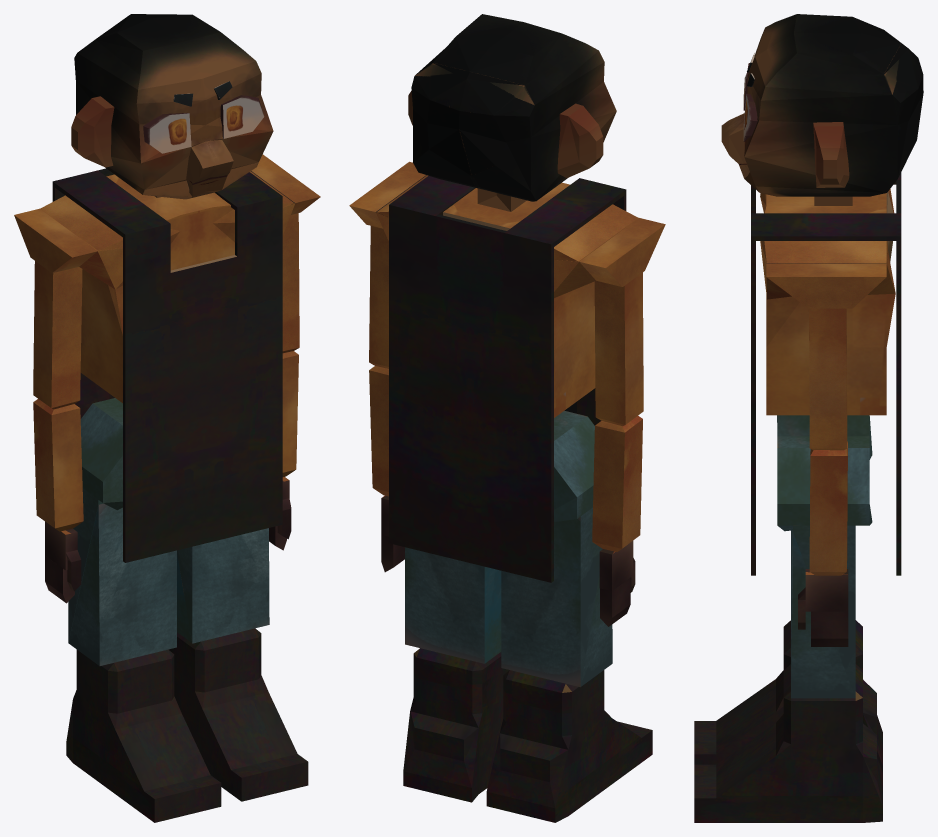
Rendered from modelBlacksmith.fbx.
3 views of the same model, side by side, from view 1: azimuth 30°, elevation 25°; view 2: azimuth 150°, elevation 25°; view 3: azimuth 270°, elevation 25° (orthographic). The views are drawn at different scales.
Parts seen in each view (by area): view 1: shoes.001; view 2: shoes.001; view 3: shoes.001.
Boxes of the visible parts, x1,y1,x2,y2 form: shoes.001: (14, 14, 320, 822); shoes.001: (349, 14, 665, 822); shoes.001: (694, 14, 923, 822).
Size of the model in its own units: 0.6277 by 1.75 by 0.4842.
Materials: 11 (11 with a texture image).
